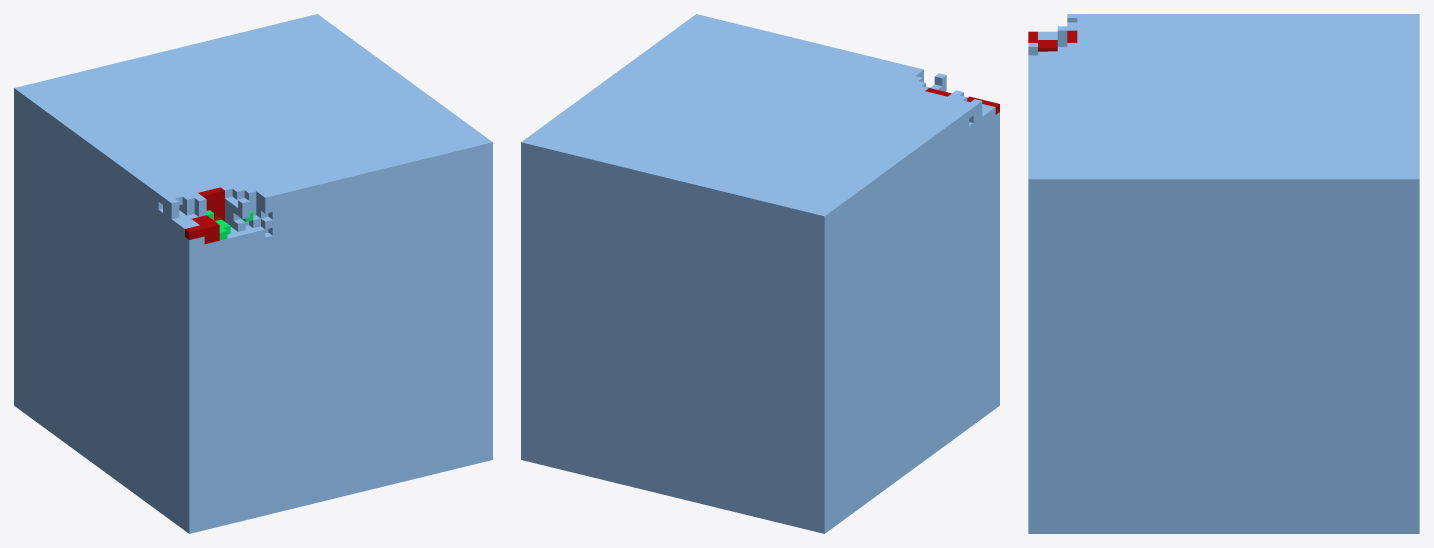
The picture shows the model from 3 angles, left to right: view 1: azimuth 30°, elevation 25°; view 2: azimuth 150°, elevation 25°; view 3: azimuth 270°, elevation 25°; orthographic projection. The views are drawn at different scales.
Size of the model in its own units: 4 by 4 by 4.
Materials: 1 (1 with a texture image).
